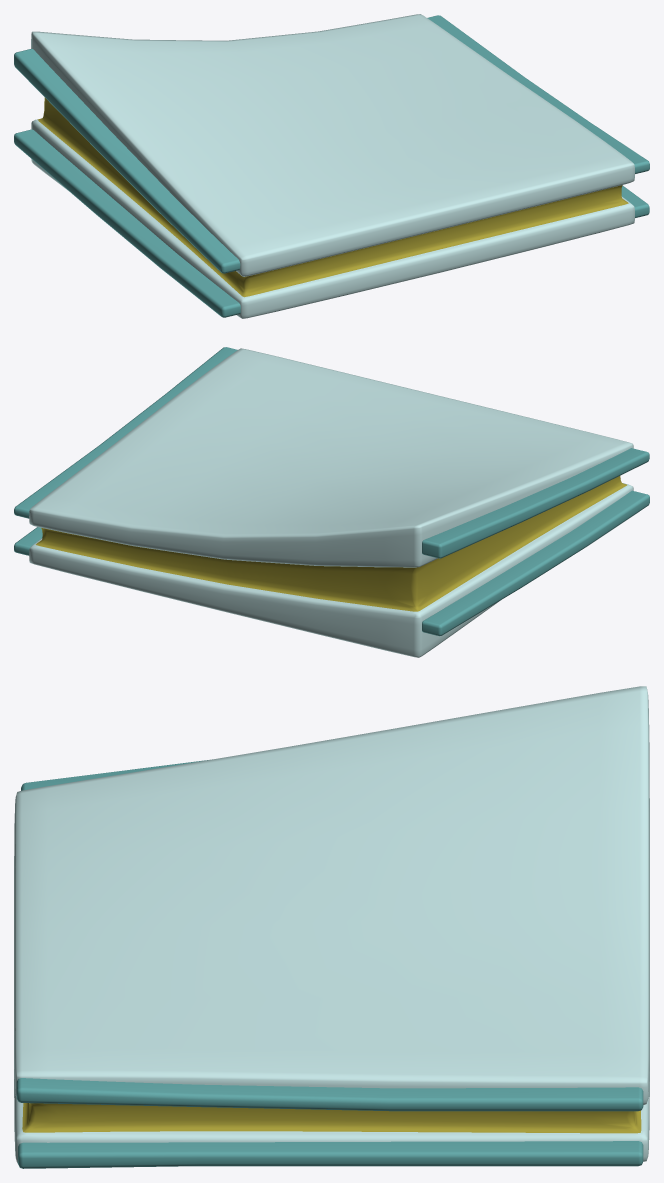
Rendered from SM_Left_Connection_Short_Curve_Platform_01.fbx.
3 views of the same model, one above another, from view 1: azimuth 30°, elevation 25°; view 2: azimuth 150°, elevation 25°; view 3: azimuth 270°, elevation 25° (orthographic). The views are drawn at different scales.
Parts seen in each view (by area): view 1: SM_Left_Connection_Short_Curve_Platform_01; view 2: SM_Left_Connection_Short_Curve_Platform_01; view 3: SM_Left_Connection_Short_Curve_Platform_01.
Part boxes in pixels (x1,y1,x2,y2): SM_Left_Connection_Short_Curve_Platform_01: (14,14,649,318); SM_Left_Connection_Short_Curve_Platform_01: (14,347,649,657); SM_Left_Connection_Short_Curve_Platform_01: (14,686,649,1168).
Size of the model in its own units: 1615 by 487 by 1403.
